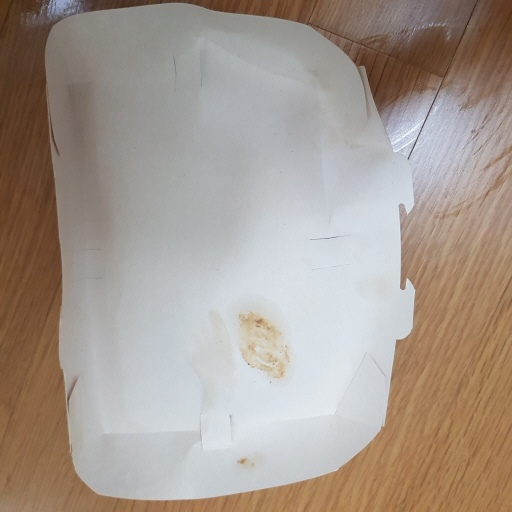Paper_0: (42, 1, 421, 505)
